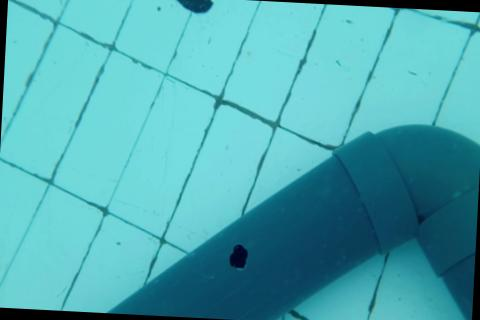kebocoran: (227, 242, 251, 273)
